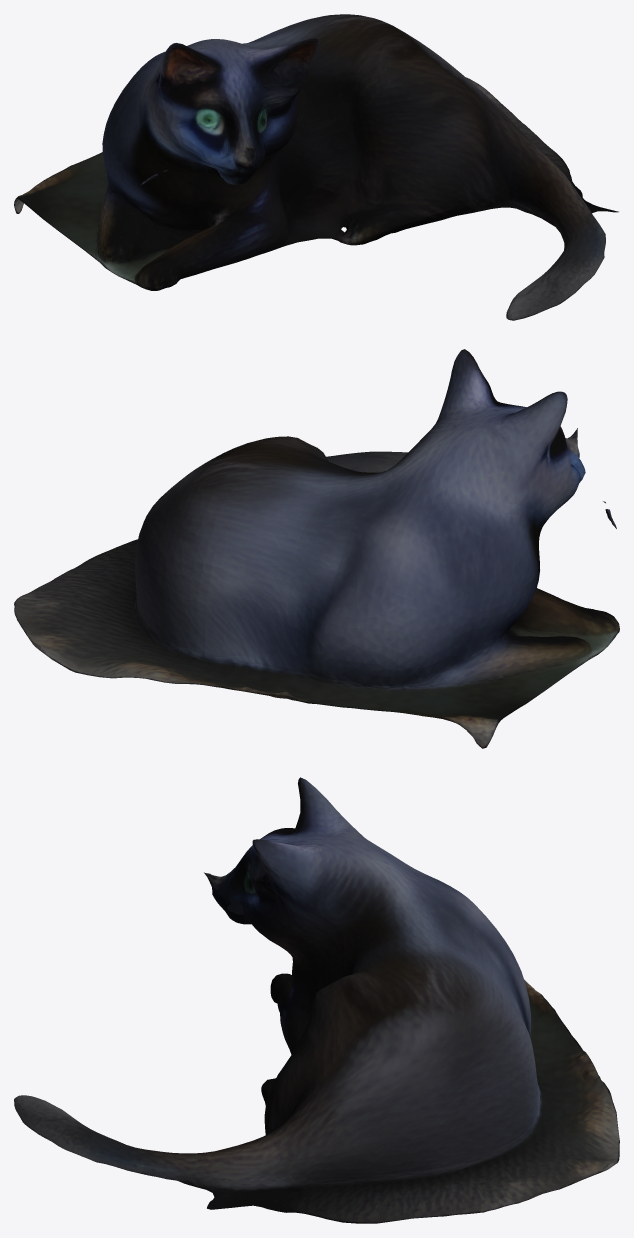
File: output_lochan_8413bd70.glb
The picture shows the model from 3 angles, top to bottom: view 1: azimuth 30°, elevation 25°; view 2: azimuth 150°, elevation 25°; view 3: azimuth 270°, elevation 25°; orthographic projection. The views are drawn at different scales.
Parts seen in each view (by area): view 1: world; view 2: world; view 3: world.
Part boxes in pixels (left/top/right/bottom): world: left=14, top=14, right=618, bottom=320; world: left=14, top=349, right=619, bottom=748; world: left=14, top=777, right=619, bottom=1223.
Size of the model in its own units: 0.9053 by 0.4517 by 1.
1 material, 1 textured.
